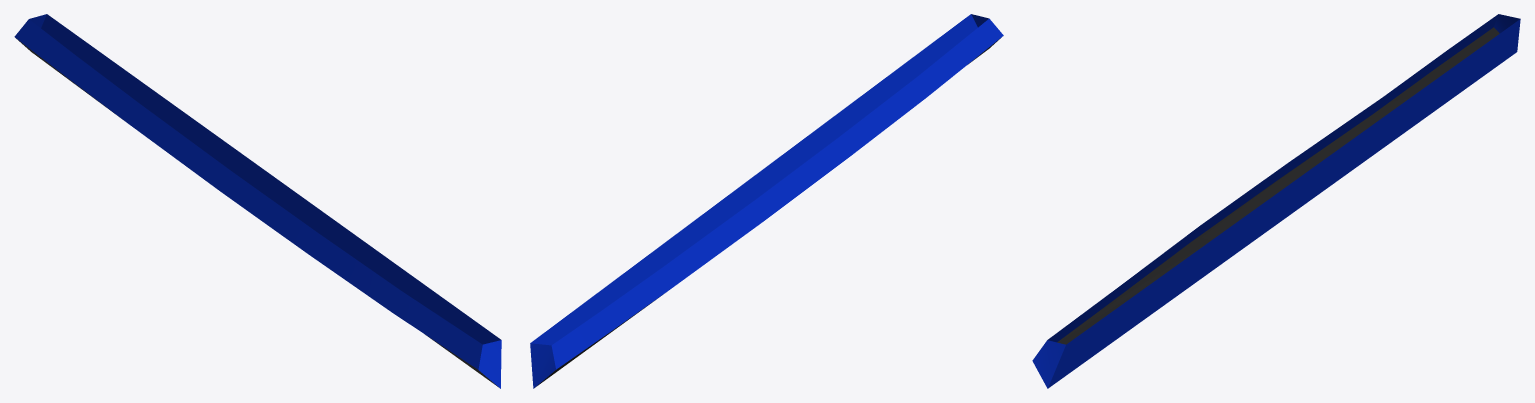
Rendered from Classic_1_Sidepanel_2_L.fbx.
The picture shows the model from 3 angles, left to right: view 1: azimuth 30°, elevation 25°; view 2: azimuth 150°, elevation 25°; view 3: azimuth 330°, elevation 25°; orthographic projection. The views are drawn at different scales.
Parts seen in each view (by area): view 1: Classic_1_Sidepanel_2_L; view 2: Classic_1_Sidepanel_2_L; view 3: Classic_1_Sidepanel_2_L.
Part boxes in pixels (left/top/right/bottom): Classic_1_Sidepanel_2_L: left=14, top=14, right=501, bottom=388; Classic_1_Sidepanel_2_L: left=530, top=14, right=1003, bottom=388; Classic_1_Sidepanel_2_L: left=1032, top=14, right=1520, bottom=388.
Size of the model in its own units: 8.36 by 10.91 by 198.
